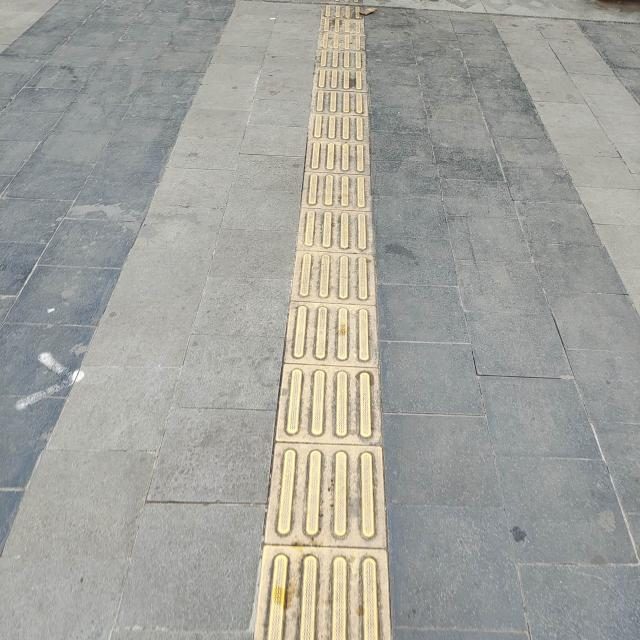lurus: (282, 15, 378, 640)
